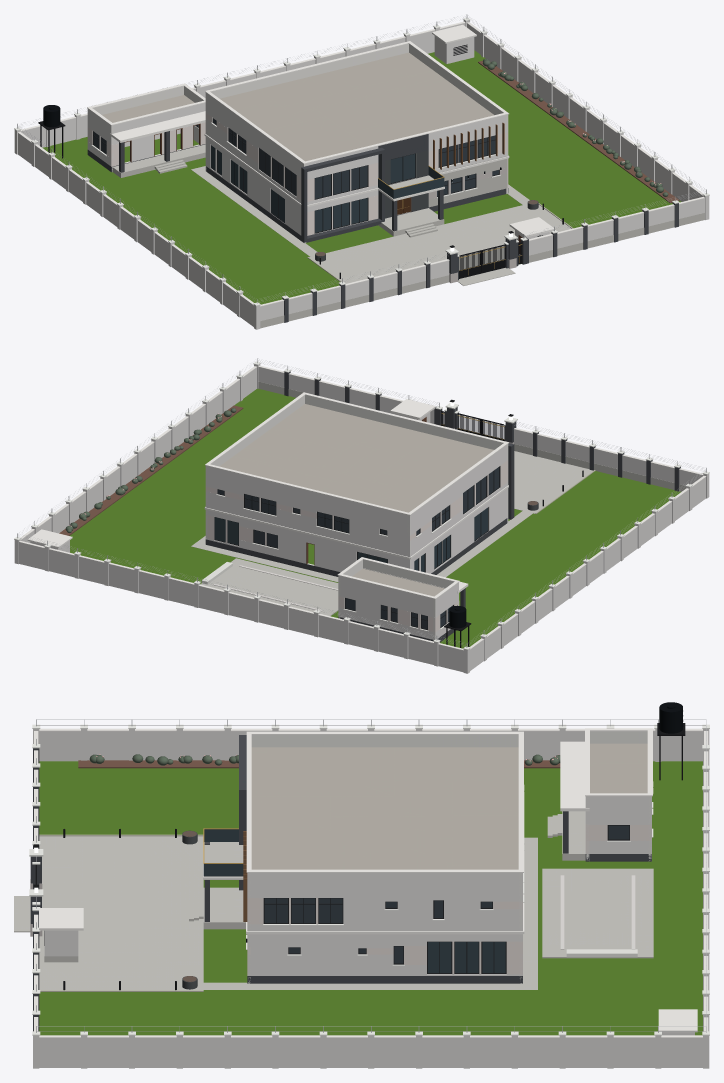
The model's file is est_S3.glb.
3 views of the same model, one above another, from view 1: azimuth 30°, elevation 25°; view 2: azimuth 150°, elevation 25°; view 3: azimuth 270°, elevation 25° (orthographic). The views are drawn at different scales.
Parts seen in each view (by area): view 1: GR_est_S3, GD_est_S3, GT_est_S3; view 2: GR_est_S3, GD_est_S3, GT_est_S3; view 3: GR_est_S3, GD_est_S3.
Part boxes in pixels (box(x1,y1,x2,y2)): GR_est_S3: box(14, 20, 709, 329); GD_est_S3: box(14, 14, 709, 305); GT_est_S3: box(459, 242, 522, 278); GR_est_S3: box(14, 364, 709, 673); GD_est_S3: box(14, 358, 709, 649); GT_est_S3: box(441, 411, 504, 440); GR_est_S3: box(14, 728, 709, 1068); GD_est_S3: box(29, 702, 709, 1035).
Bounding box in the file's own units: 52.55 × 10.33 × 49.87.
8 materials, 2 textured.
